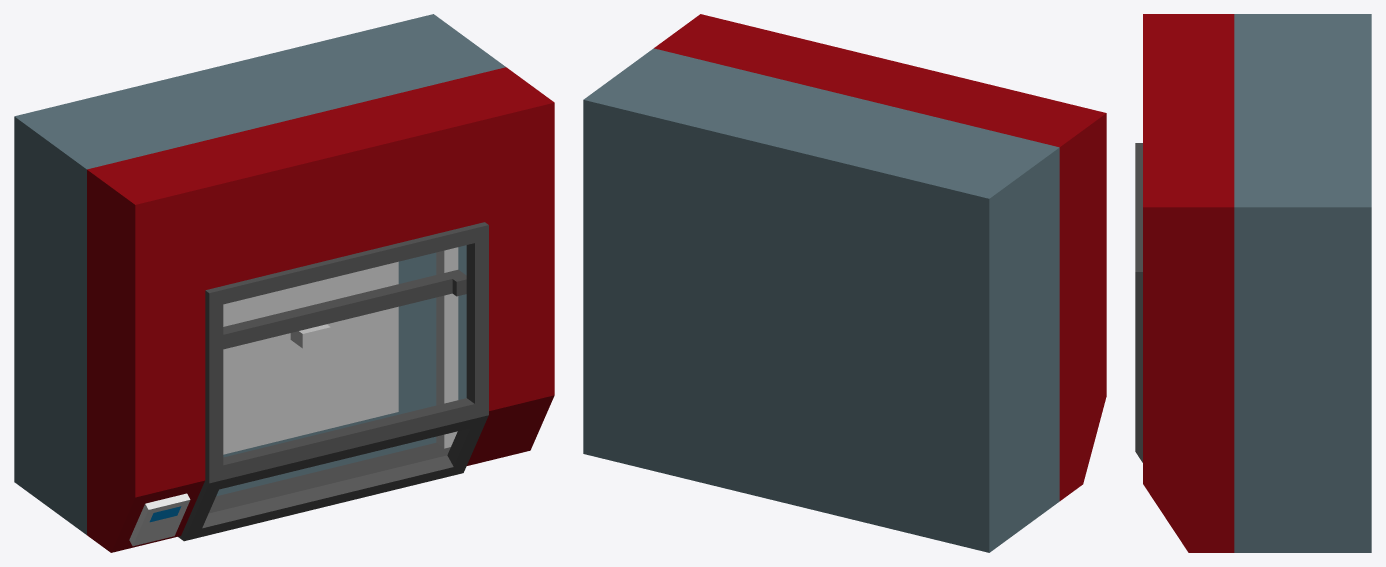
File: cnc_cutting_machine_2_state_2.dae
3 renders of one model, left to right at view 1: azimuth 30°, elevation 25°; view 2: azimuth 150°, elevation 25°; view 3: azimuth 270°, elevation 25°, orthographic. The views are drawn at different scales.
Parts seen in each view (by area): view 1: coords_ME_ID45_MA_material_7, coords_ME_ID31_MA_material_16, coords_ME_ID99_MA_material_11, coords_ME_ID3_MA_material, coords_ME_ID65_MA_material, coords_ME_ID53_MA_material, coords_ME_ID25_MA_material, coords_ME_ID59_MA_material, coords_ME_ID79_MA_material_11, coords_ME_ID71_MA_material_8, coords_ME_ID105_MA_material_16, coords_ME_ID11_MA_material_11; view 2: coords_ME_ID31_MA_material_16, coords_ME_ID45_MA_material_7; view 3: coords_ME_ID31_MA_material_16, coords_ME_ID45_MA_material_7, coords_ME_ID3_MA_material.
Part boxes in pixels (<box>): coords_ME_ID45_MA_material_7: <box>87,67,554,552</box>; coords_ME_ID31_MA_material_16: <box>14,14,505,534</box>; coords_ME_ID99_MA_material_11: <box>223,261,398,454</box>; coords_ME_ID3_MA_material: <box>178,222,488,541</box>; coords_ME_ID65_MA_material: <box>223,269,466,349</box>; coords_ME_ID53_MA_material: <box>202,428,470,528</box>; coords_ME_ID25_MA_material: <box>208,442,450,513</box>; coords_ME_ID59_MA_material: <box>223,243,474,465</box>; coords_ME_ID79_MA_material_11: <box>436,247,458,448</box>; coords_ME_ID71_MA_material_8: <box>129,493,190,546</box>; coords_ME_ID105_MA_material_16: <box>458,245,466,399</box>; coords_ME_ID11_MA_material_11: <box>290,324,330,348</box>; coords_ME_ID31_MA_material_16: <box>583,48,1059,552</box>; coords_ME_ID45_MA_material_7: <box>654,14,1106,500</box>; coords_ME_ID31_MA_material_16: <box>1234,14,1371,552</box>; coords_ME_ID45_MA_material_7: <box>1143,14,1234,552</box>; coords_ME_ID3_MA_material: <box>1135,143,1142,462</box>.
Bounding box in the file's own units: 33.07 × 28.35 × 17.09.
